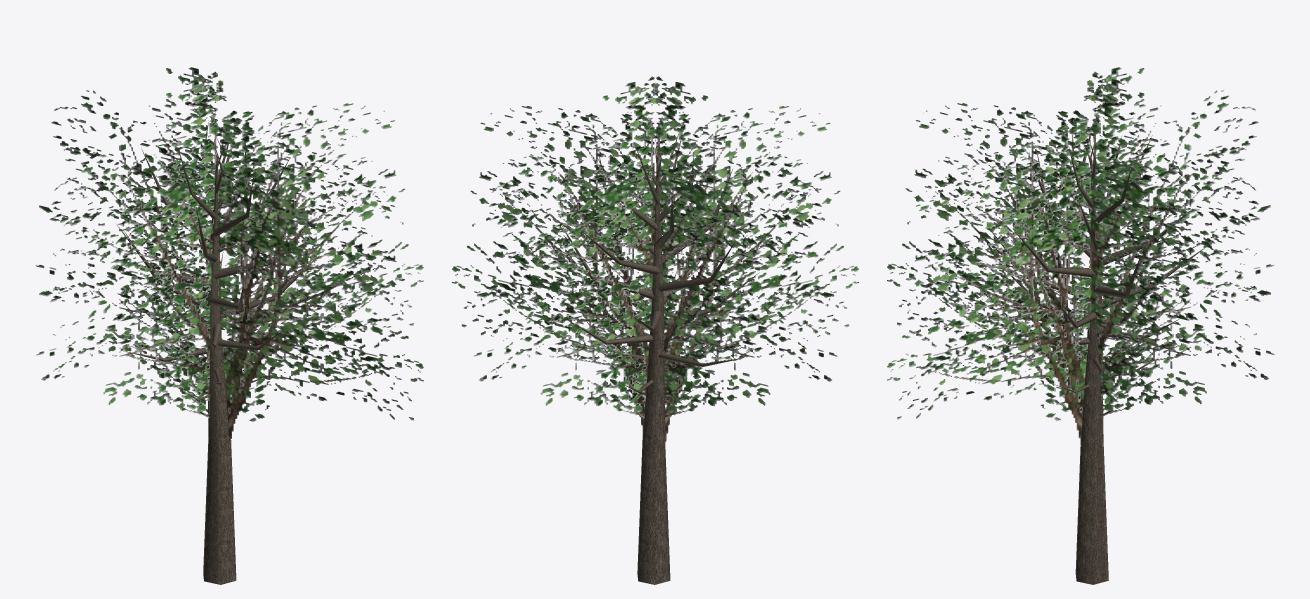
File: tree4.fbx
3 views of the same model, side by side, from view 1: azimuth 30°, elevation 25°; view 2: azimuth 150°, elevation 25°; view 3: azimuth 270°, elevation 25° (orthographic).
Parts seen in each view (by area): view 1: Leaf3, Leaf5, Leaf2, Trunk, Leaf6; view 2: Leaf1, Leaf5, Leaf4, Leaf2, Trunk; view 3: Leaf3, Leaf1, Leaf4, Trunk, Leaf6.
Part boxes in pixels (left/top/right/bottom): Leaf3: left=219, top=80, right=423, bottom=446; Leaf5: left=36, top=73, right=218, bottom=417; Leaf2: left=219, top=80, right=423, bottom=411; Trunk: left=117, top=120, right=319, bottom=584; Leaf6: left=35, top=67, right=218, bottom=412; Leaf1: left=473, top=76, right=655, bottom=417; Leaf5: left=655, top=76, right=837, bottom=418; Leaf4: left=655, top=83, right=858, bottom=441; Leaf2: left=452, top=83, right=655, bottom=432; Trunk: left=562, top=129, right=759, bottom=584; Leaf3: left=887, top=80, right=1091, bottom=445; Leaf1: left=1091, top=73, right=1274, bottom=416; Leaf4: left=887, top=80, right=1091, bottom=410; Trunk: left=988, top=122, right=1206, bottom=584; Leaf6: left=1092, top=67, right=1274, bottom=410.
Size of the model in its own units: 0.08 by 0.0981 by 0.0693.
Materials: 2 (2 with a texture image).
